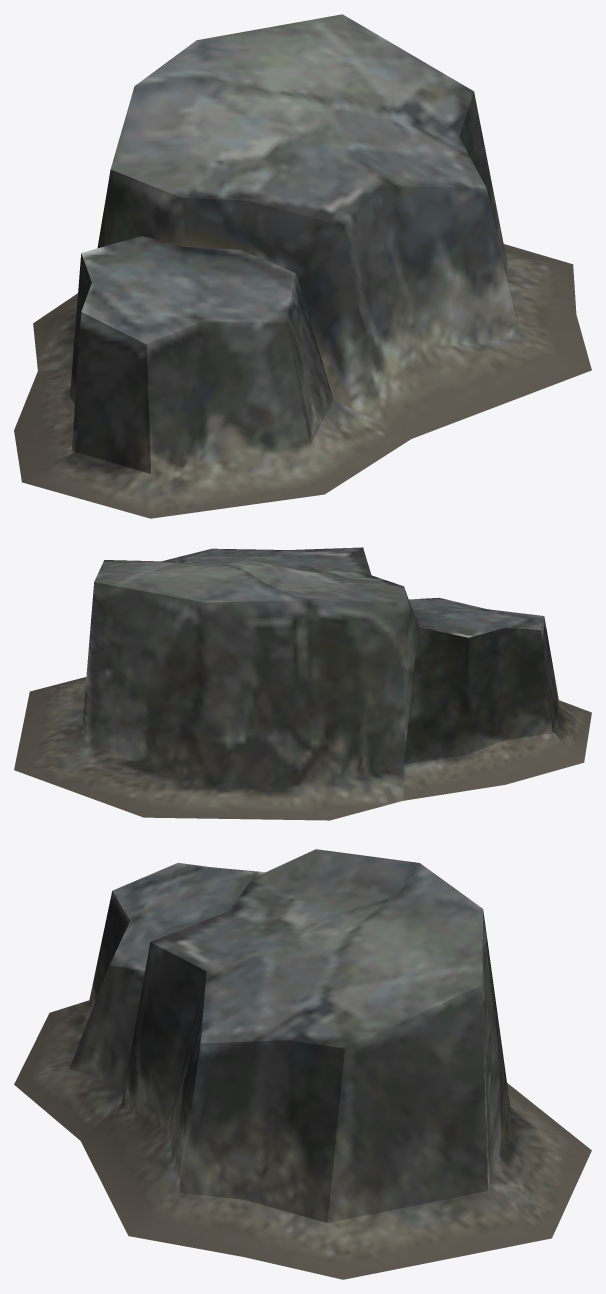
File: dx_shitou_10.FBX
3 renders of one model, top to bottom at view 1: azimuth 30°, elevation 25°; view 2: azimuth 150°, elevation 25°; view 3: azimuth 270°, elevation 25°, orthographic. The views are drawn at different scales.
Parts seen in each view (by area): view 1: dx_shitou_10; view 2: dx_shitou_10; view 3: dx_shitou_10.
Part boxes in pixels (<box>): dx_shitou_10: <box>14,14,591,518</box>; dx_shitou_10: <box>14,547,591,820</box>; dx_shitou_10: <box>14,849,591,1279</box>.
Bounding box in the file's own units: 171 × 63.13 × 142.
